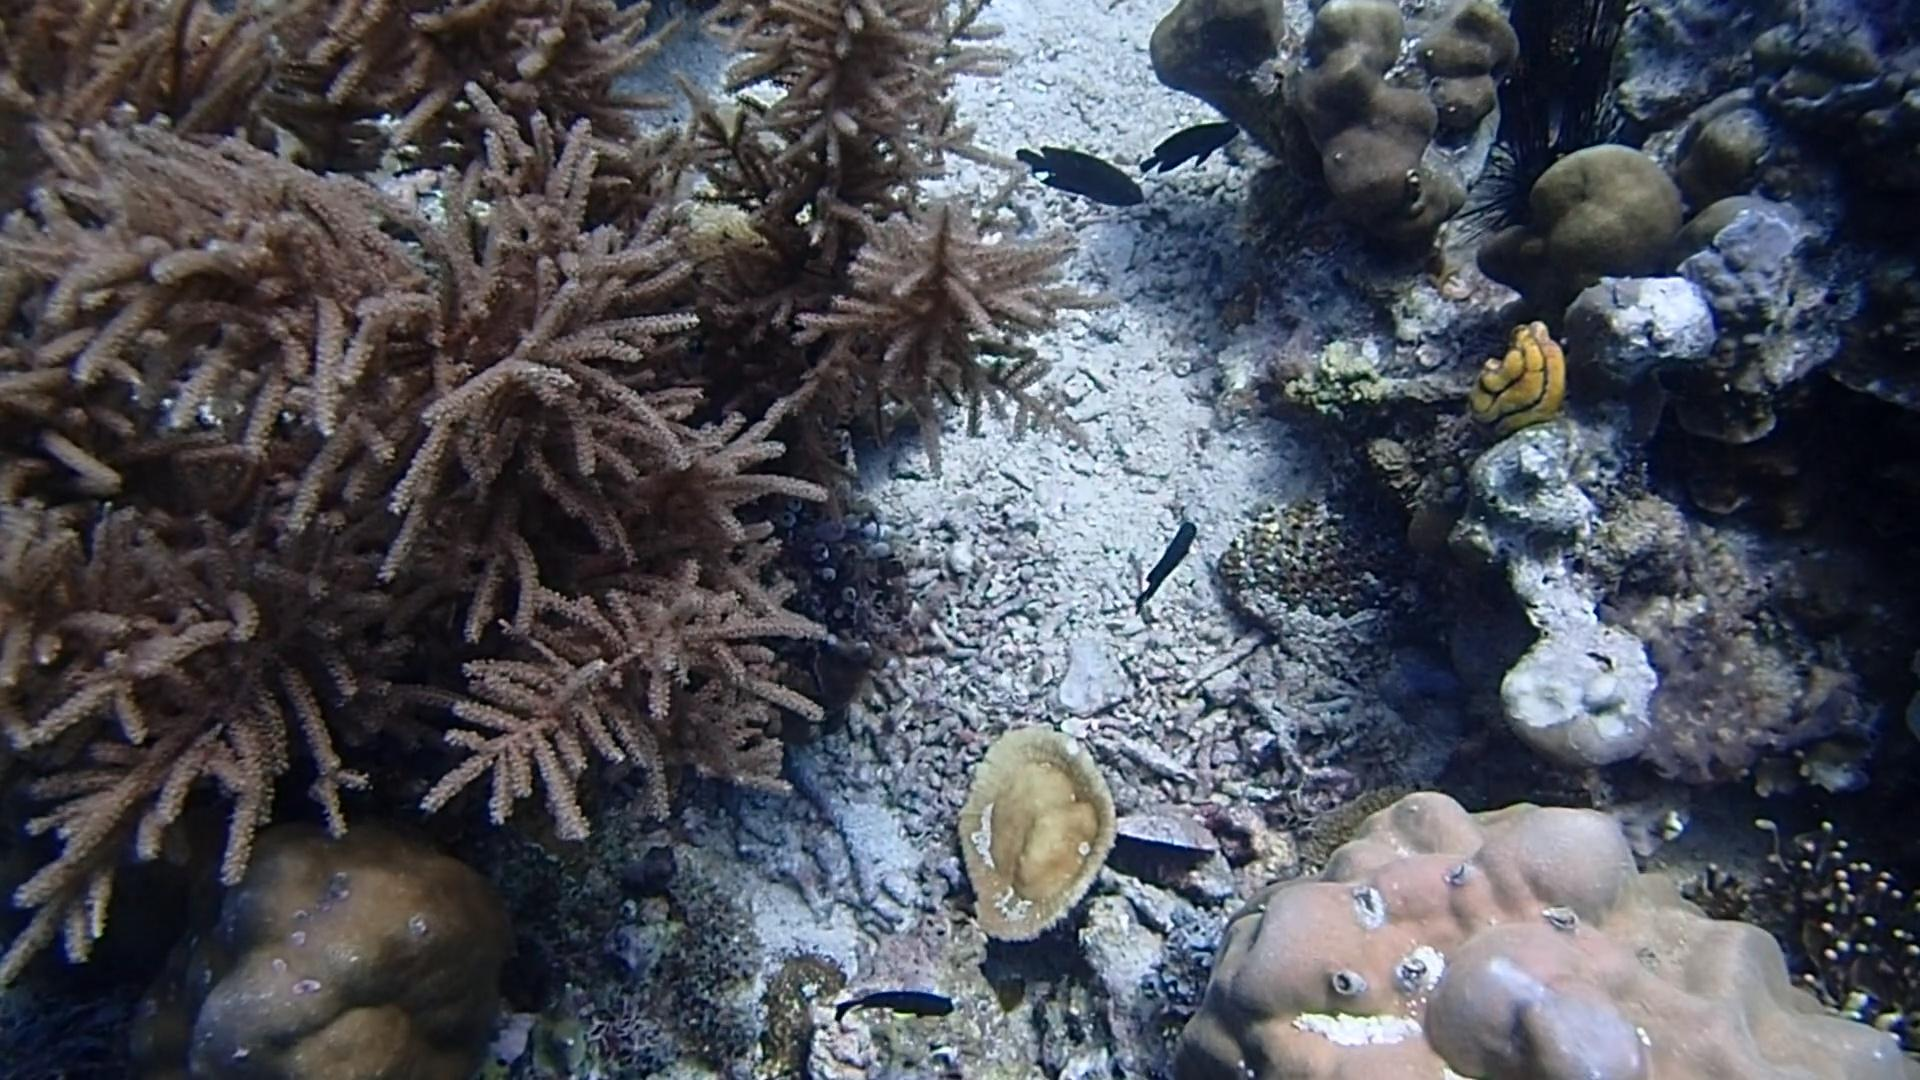Dark Fish: (1009, 136, 1149, 220), (829, 973, 968, 1035), (1135, 112, 1240, 183), (1129, 517, 1212, 605)
